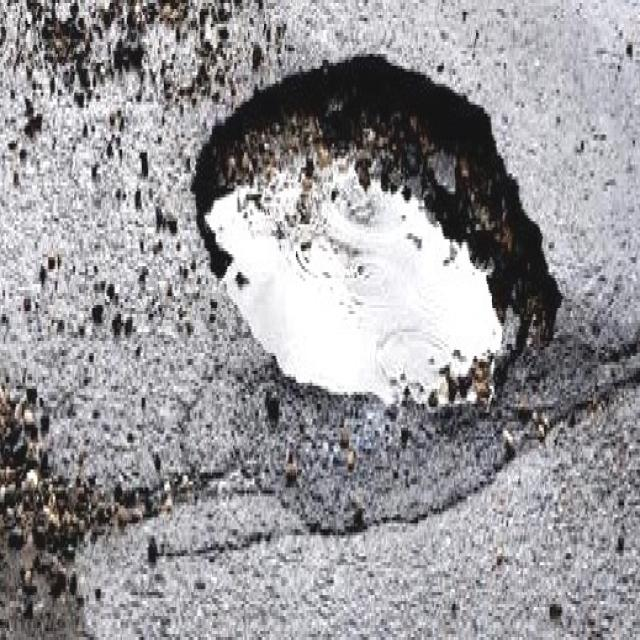road-pothole: (189, 46, 564, 413)
